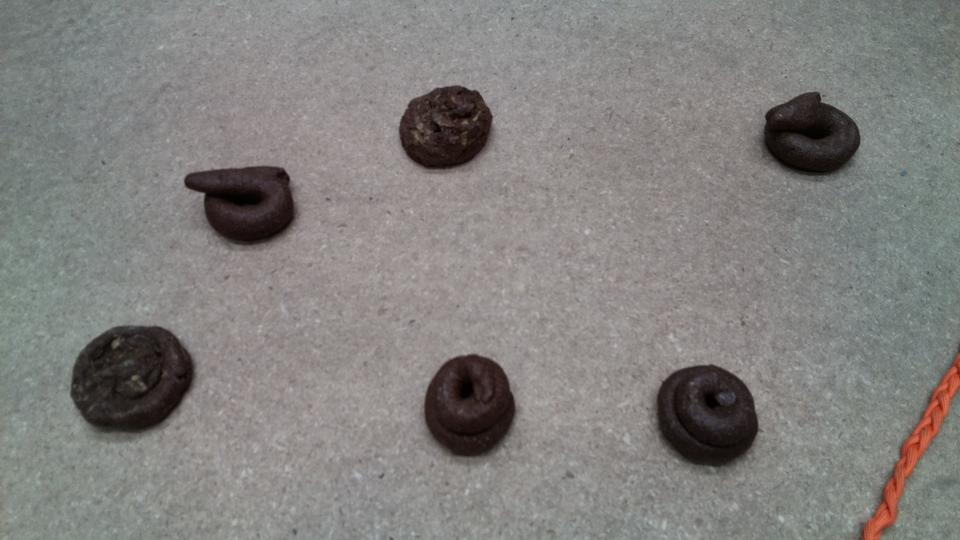poop: (67, 322, 200, 436), (653, 360, 761, 470), (423, 350, 518, 459), (181, 161, 300, 248), (758, 88, 864, 179), (396, 82, 498, 172)
rope: (867, 364, 957, 540)
